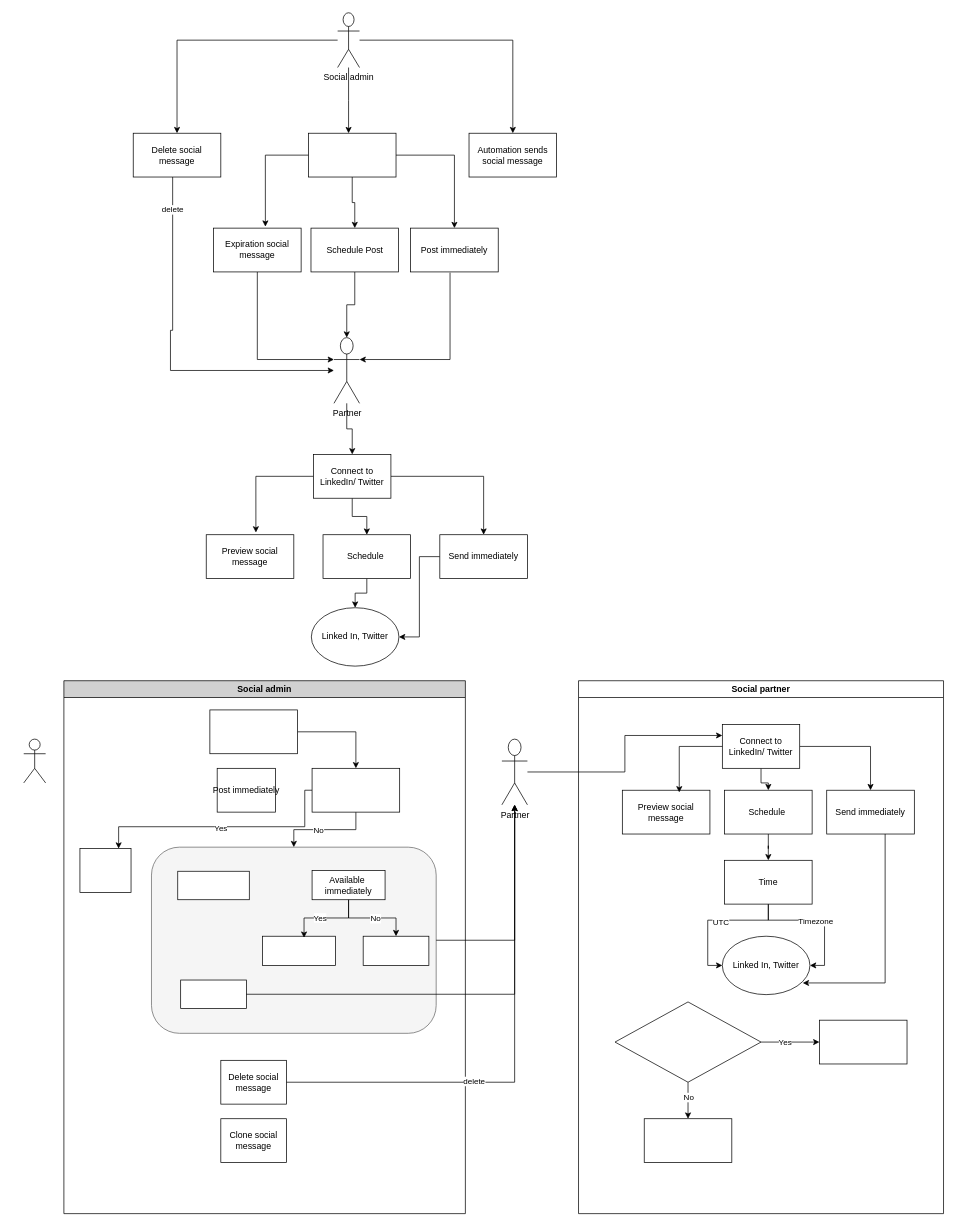
The diagram is 956 pixels wide and 1226 high, and some of its shapes have lost their labels. Here are the shapes that lost their labels. From the top down, the centre of each, then its label:
the point at 352,154: Create social message
the point at 253,731: Create/edit social message
the point at 34,760: User admin
the point at 355,790: Create as Draft
the point at 105,870: Draft
the point at 213,885: Post date
the point at 298,950: Post immediately to partner
the point at 395,950: Schedule then post to partner
the point at 213,993: Expiration date
the point at 687,1041: Current date > Expiration date
the point at 863,1041: Show social message
the point at 687,1140: Remove message
